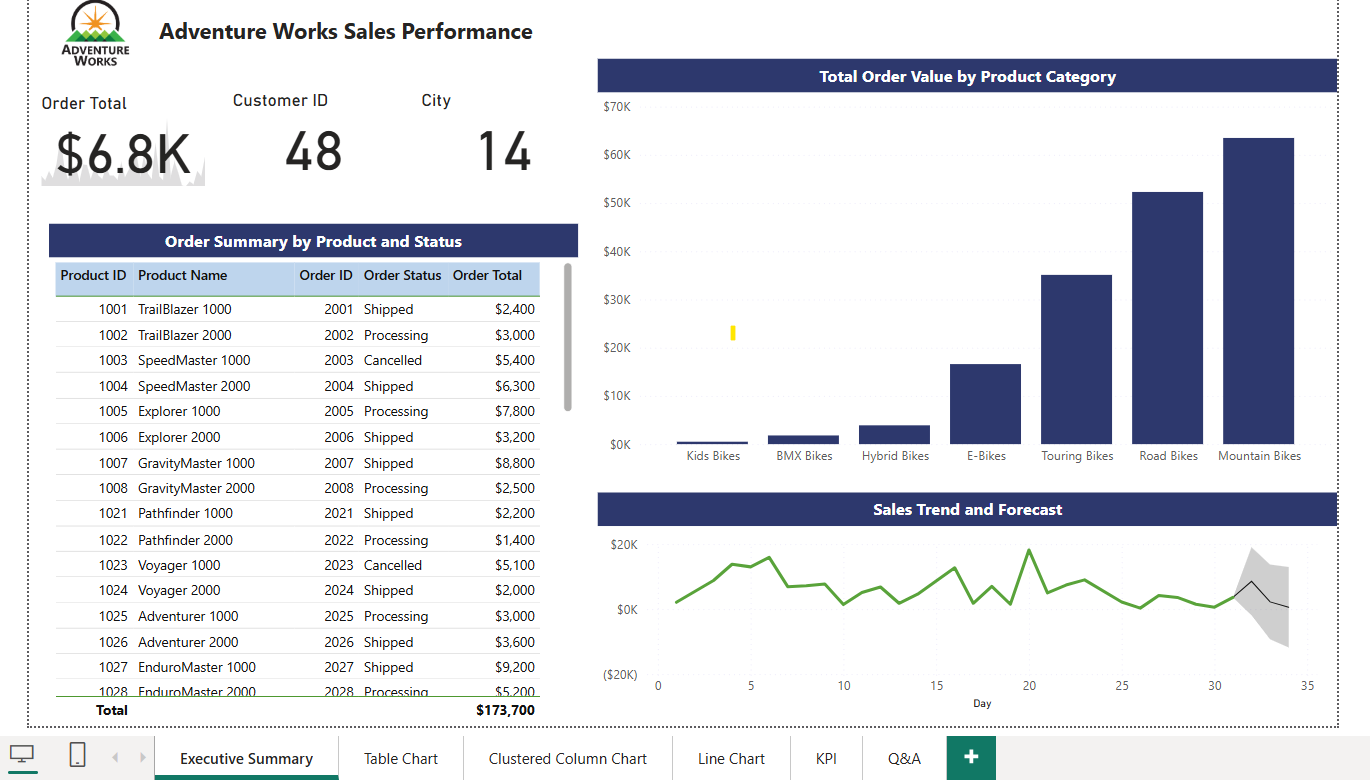

The page's visual inventory and layout, read from the dashboard file:
{"tool":"powerbi","page":{"name":"Executive Summary","canvas":[1280,720],"ordinal":0},"visuals":[{"type":"tableEx","fields":{"Values":["Sales.Product ID","Sales.Product Name","Sales.Order ID","Sales.Order Status","Sum(Sales.Order Total)"]},"box":[19.6,261.7,517.3,458.6],"z":0},{"type":"clusteredColumnChart","fields":{"Category":["Sales.Product Category"],"Y":["Sum(Sales.Order Total)"]},"box":[556.4,100.3,723.9,374.2],"z":1000},{"type":"lineChart","fields":{"Y":["Sum(Sales.Order Total)"],"Category":["Sales.OrderDate.Variation.Date Hierarchy.Day"]},"box":[556.4,528.3,709.2,181],"z":2000},{"type":"kpi","title":"Order Total","fields":{"Indicator":["Sum(Sales.Order Total)"],"TrendLine":["Sales.OrderDate"]},"box":[7.3,100.3,170,96.6],"z":3000},{"type":"kpi","title":"Customer ID","fields":{"TrendLine":["Sales.OrderDate"],"Indicator":["Count(Customers.Customer ID)"]},"box":[194.4,97.8,168.8,96.6],"z":4000},{"type":"kpi","title":"City","fields":{"TrendLine":["Sales.OrderDate"],"Indicator":["Count(Customers.City)"]},"box":[379.1,97.8,168.8,96.6],"z":5000},{"type":"textbox","box":[19.6,228.7,517.3,33],"z":7001},{"type":"textbox","box":[556.4,67.3,723.9,33],"z":7002},{"type":"textbox","box":[556.4,491.6,723.9,33],"z":7003},{"type":"image","box":[7.3,0,114.9,83.2],"z":7004},{"type":"textbox","box":[122.3,19.6,536.8,44],"z":7005}]}

Visuals, with their boxes on the page's 1280x720 design canvas (x1, y1, x2, y2). These are canvas units, not pixel positions in the 1370x780 screenshot, which may show the page scaled, cropped or inside an application window:
tableEx - Sales.Product ID x Sales.Product Name: box=[20, 262, 537, 720]
clusteredColumnChart - Sales.Product Category x Sum(Sales.Order Total): box=[556, 100, 1280, 474]
lineChart - Sum(Sales.Order Total) x Sales.OrderDate.Variation.Date Hierarchy.Day: box=[556, 528, 1266, 709]
"Order Total" kpi: box=[7, 100, 177, 197]
"Customer ID" kpi: box=[194, 98, 363, 194]
"City" kpi: box=[379, 98, 548, 194]
textbox: box=[20, 229, 537, 262]
textbox: box=[556, 67, 1280, 100]
textbox: box=[556, 492, 1280, 525]
image: box=[7, 0, 122, 83]
textbox: box=[122, 20, 659, 64]
